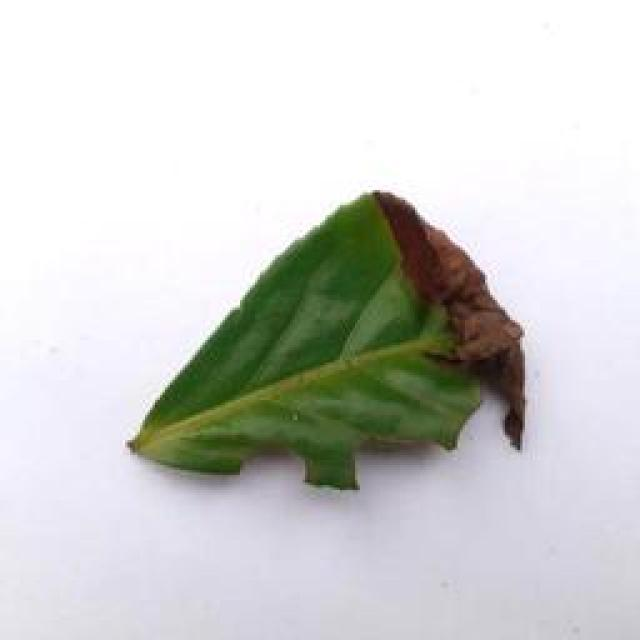Brown Blight: (105, 150, 561, 526)
